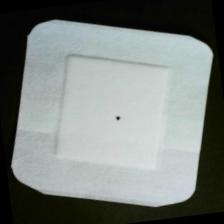Dressing: (1, 1, 224, 224)
F_Body: (103, 100, 136, 134)
